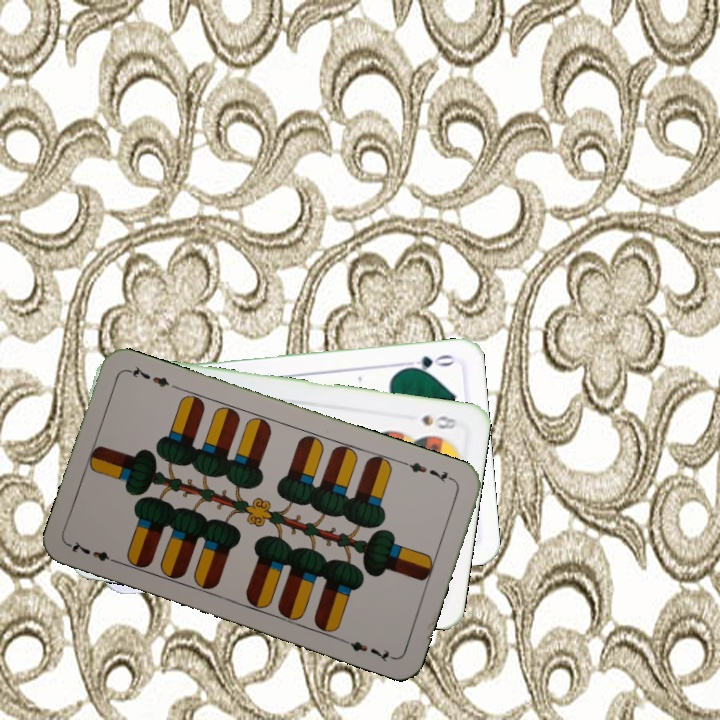E7: (66, 537, 123, 567), (399, 457, 457, 485)
GO: (399, 350, 457, 375)
S8: (418, 411, 459, 432)
